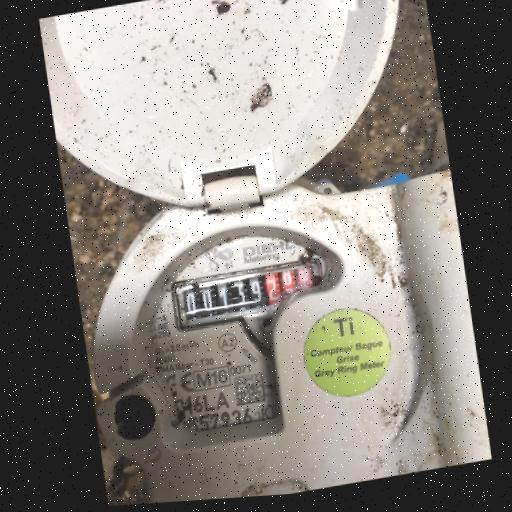0: (198, 284, 219, 319), (182, 287, 202, 322)
1: (213, 281, 235, 317)
2: (264, 271, 282, 305)
5: (229, 278, 251, 314)
8: (280, 269, 298, 300)
9: (247, 275, 267, 309), (296, 265, 315, 290)
border_water_meter_number: (168, 256, 328, 335)
